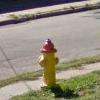Hydrant: (28, 32, 71, 96)
